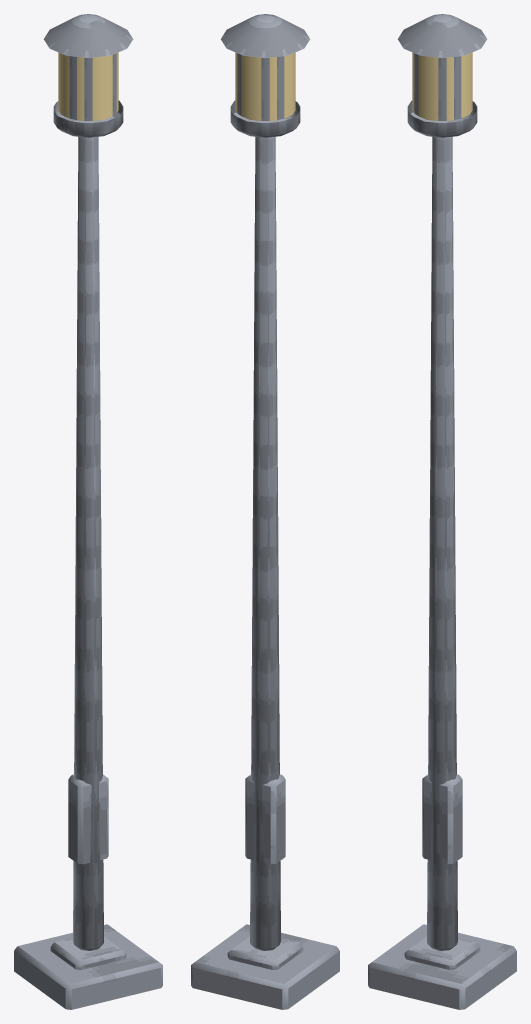
File: modern_street_lamp_2.glb
The picture shows the model from 3 angles, left to right: view 1: azimuth 30°, elevation 25°; view 2: azimuth 150°, elevation 25°; view 3: azimuth 330°, elevation 25°; orthographic projection.
Visible parts, largest first — view 1: modern_street_lamp_3; view 2: modern_street_lamp_3; view 3: modern_street_lamp_3.
Boxes of the visible parts, bbox=[...] form: modern_street_lamp_3: bbox=[14, 14, 162, 1009]; modern_street_lamp_3: bbox=[191, 14, 339, 1009]; modern_street_lamp_3: bbox=[368, 14, 516, 1009].
Bounding box in the file's own units: 0.5 × 4.72 × 0.5.
Materials: 3 (3 with a texture image).
